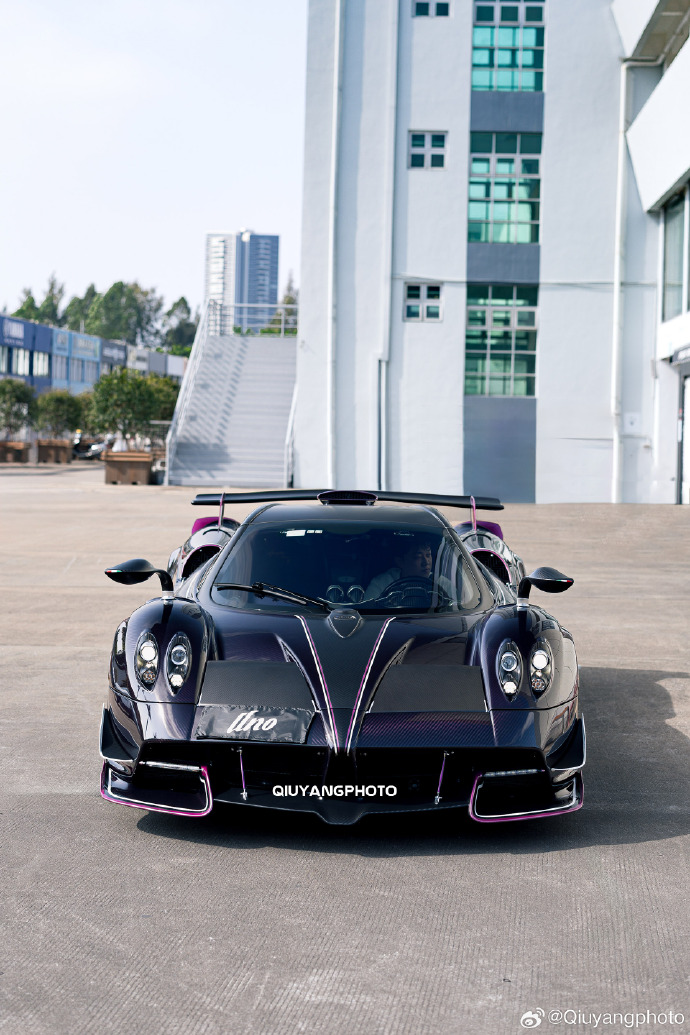other: (114, 479, 584, 838)
